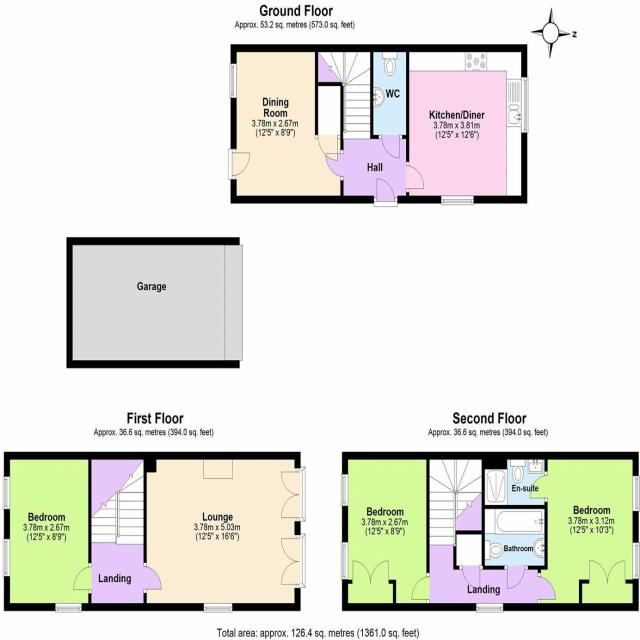DOOR: (506, 563, 527, 592), (405, 163, 427, 190), (536, 575, 558, 602), (375, 177, 396, 205), (72, 564, 93, 592), (410, 574, 431, 602), (230, 150, 251, 177), (380, 133, 401, 160), (461, 564, 482, 591), (528, 473, 549, 500)
DOUBLE DOOR: (277, 533, 308, 589), (279, 466, 306, 522)
ROOM: (143, 451, 307, 614), (405, 43, 528, 205), (229, 44, 344, 204), (527, 451, 640, 612), (340, 450, 430, 612), (2, 451, 92, 612), (142, 563, 164, 592)
WINDOW: (520, 75, 530, 134), (440, 193, 475, 206), (200, 601, 234, 614), (1, 537, 11, 579), (228, 62, 238, 100), (340, 540, 349, 582), (54, 602, 83, 615), (475, 601, 504, 614), (1, 475, 11, 511), (632, 540, 640, 582), (340, 473, 349, 508), (632, 474, 640, 513)
